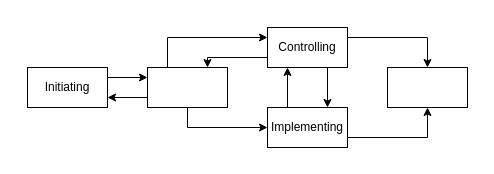
Some shapes in this 494 by 174 pixel diagram are drawn without their labels. Each missing label, with the centre of its shape:
"Closing" goes at pixel 427 87.
"Planning" goes at pixel 187 87.
